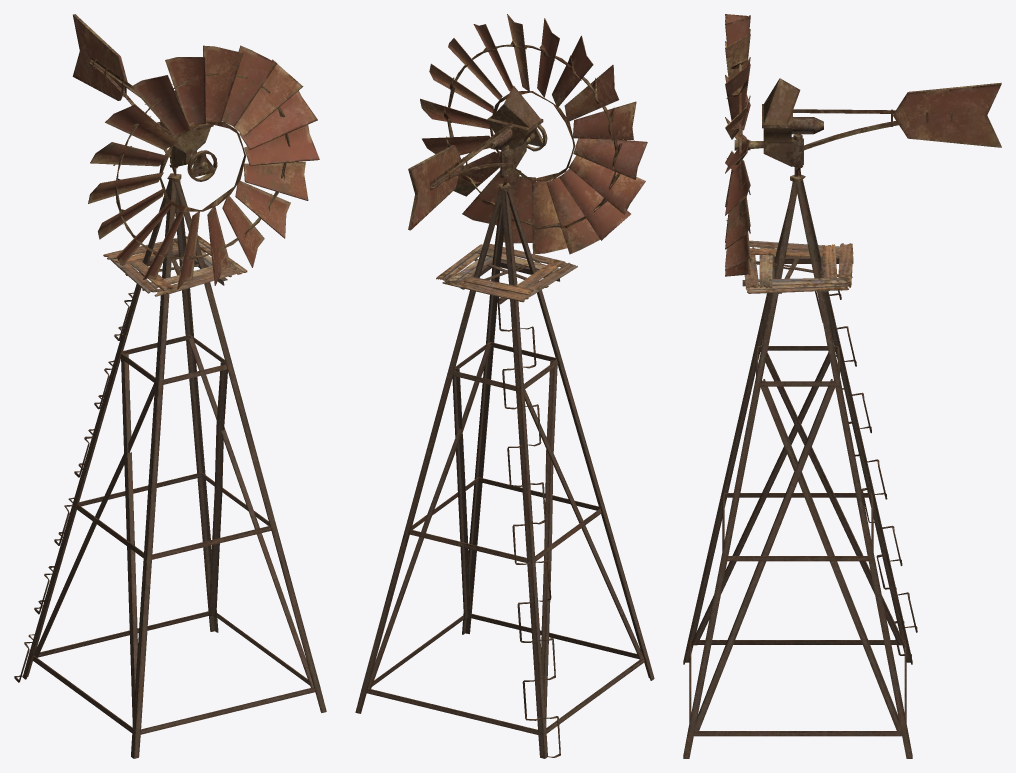
Rendered from wind-pump.zfix-v1.lod0.glb.
3 renders of one model, left to right at view 1: azimuth 30°, elevation 25°; view 2: azimuth 150°, elevation 25°; view 3: azimuth 270°, elevation 25°, orthographic. The views are drawn at different scales.
Visible parts, largest first — view 1: unterStrebe_1_low_MA_Windrad_Bottom_0, turbine_upper_low_MA_Windrad_Top_0; view 2: unterStrebe_1_low_MA_Windrad_Bottom_0, turbine_upper_low_MA_Windrad_Top_0; view 3: unterStrebe_1_low_MA_Windrad_Bottom_0, turbine_upper_low_MA_Windrad_Top_0.
Part boxes in pixels (<box>): unterStrebe_1_low_MA_Windrad_Bottom_0: <box>14,179,326,758</box>; turbine_upper_low_MA_Windrad_Top_0: <box>72,14,319,289</box>; unterStrebe_1_low_MA_Windrad_Bottom_0: <box>355,189,654,758</box>; turbine_upper_low_MA_Windrad_Top_0: <box>408,14,647,254</box>; unterStrebe_1_low_MA_Windrad_Bottom_0: <box>683,179,917,758</box>; turbine_upper_low_MA_Windrad_Top_0: <box>725,14,1001,276</box>.
Bounding box in the file's own units: 4.14 × 12 × 5.06.
Materials: 2 (2 with a texture image).
